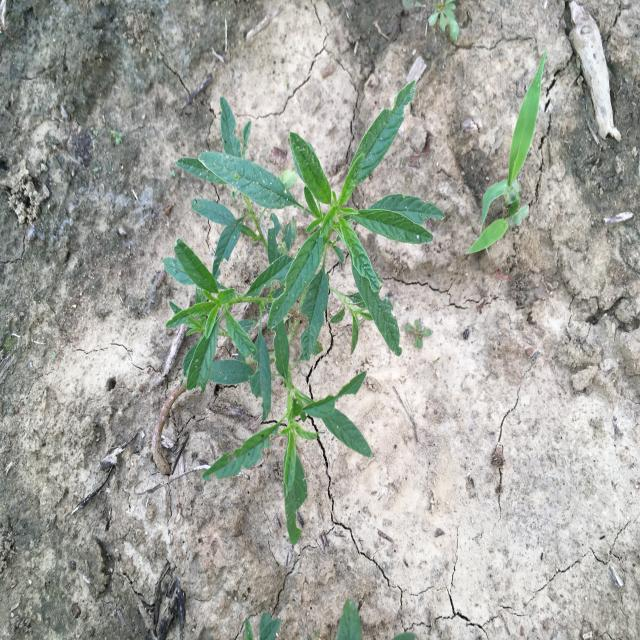Waterhemp: (160, 78, 448, 547)
